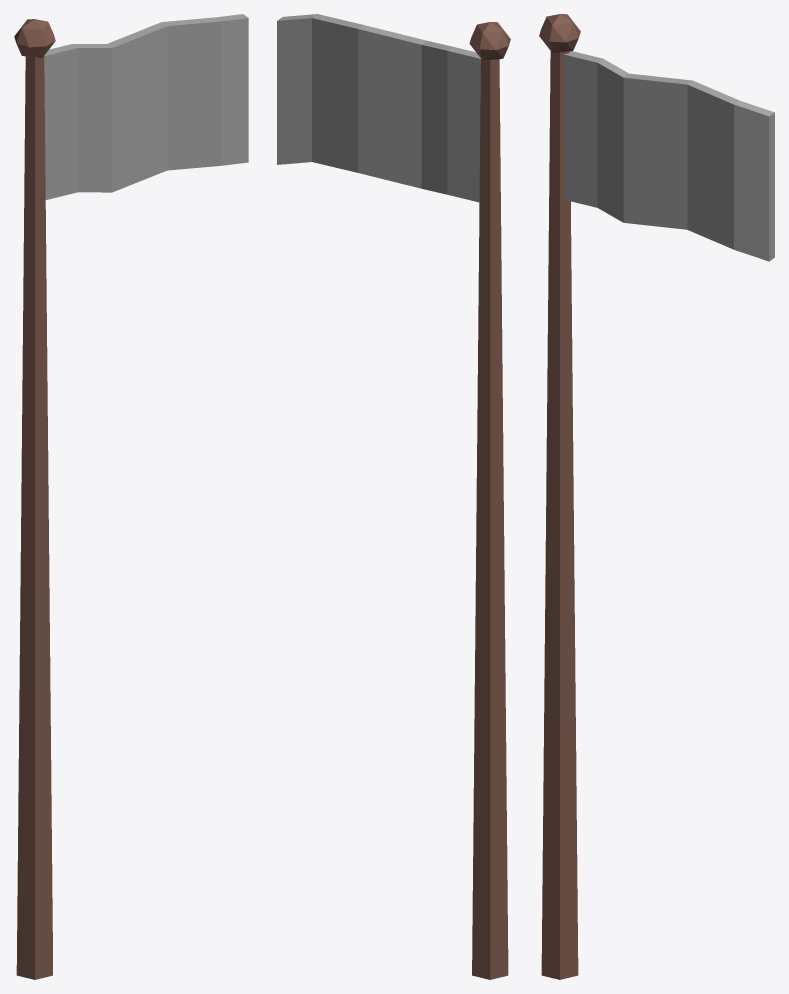
Rendered from FlagPole.fbx.
The picture shows the model from 3 angles, left to right: view 1: azimuth 30°, elevation 25°; view 2: azimuth 150°, elevation 25°; view 3: azimuth 330°, elevation 25°; orthographic projection.
Parts seen in each view (by area): view 1: Flag, Pole; view 2: Flag, Pole; view 3: Flag, Pole.
Part boxes in pixels (x1,y1,x2,y2): Flag: (44,14,248,199); Pole: (14,19,55,979); Flag: (277,14,480,202); Pole: (469,22,510,979); Flag: (563,51,774,261); Pole: (539,14,580,979).
Bounding box in the file's own units: 59.51 × 236 × 9.54.
